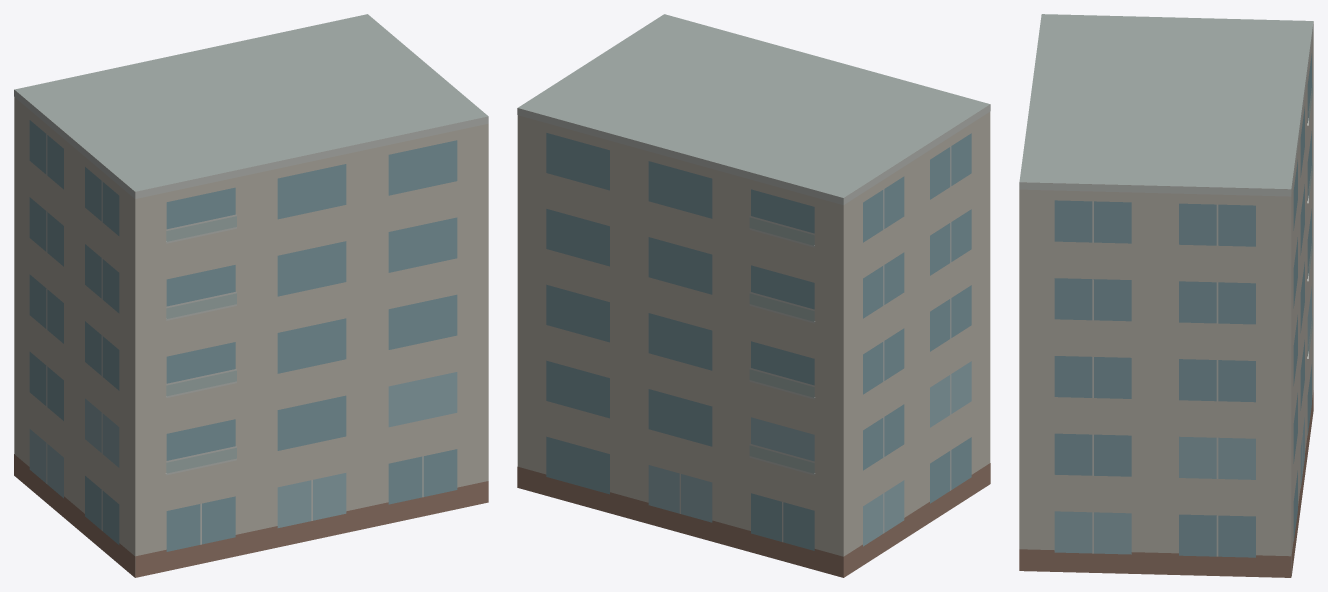
File: survey-upis-32953186.glb
3 renders of one model, left to right at view 1: azimuth 30°, elevation 25°; view 2: azimuth 150°, elevation 25°; view 3: azimuth 270°, elevation 25°, orthographic. The views are drawn at different scales.
Visible parts, largest first — view 1: survey-upis-32953186.tmp; view 2: survey-upis-32953186.tmp; view 3: survey-upis-32953186.tmp.
Boxes of the visible parts, x1,y1,x2,y2 form: survey-upis-32953186.tmp: (14, 14, 488, 577); survey-upis-32953186.tmp: (517, 14, 990, 577); survey-upis-32953186.tmp: (1019, 14, 1313, 577).
Bounding box in the file's own units: 12.48 × 12.9 × 8.86.
